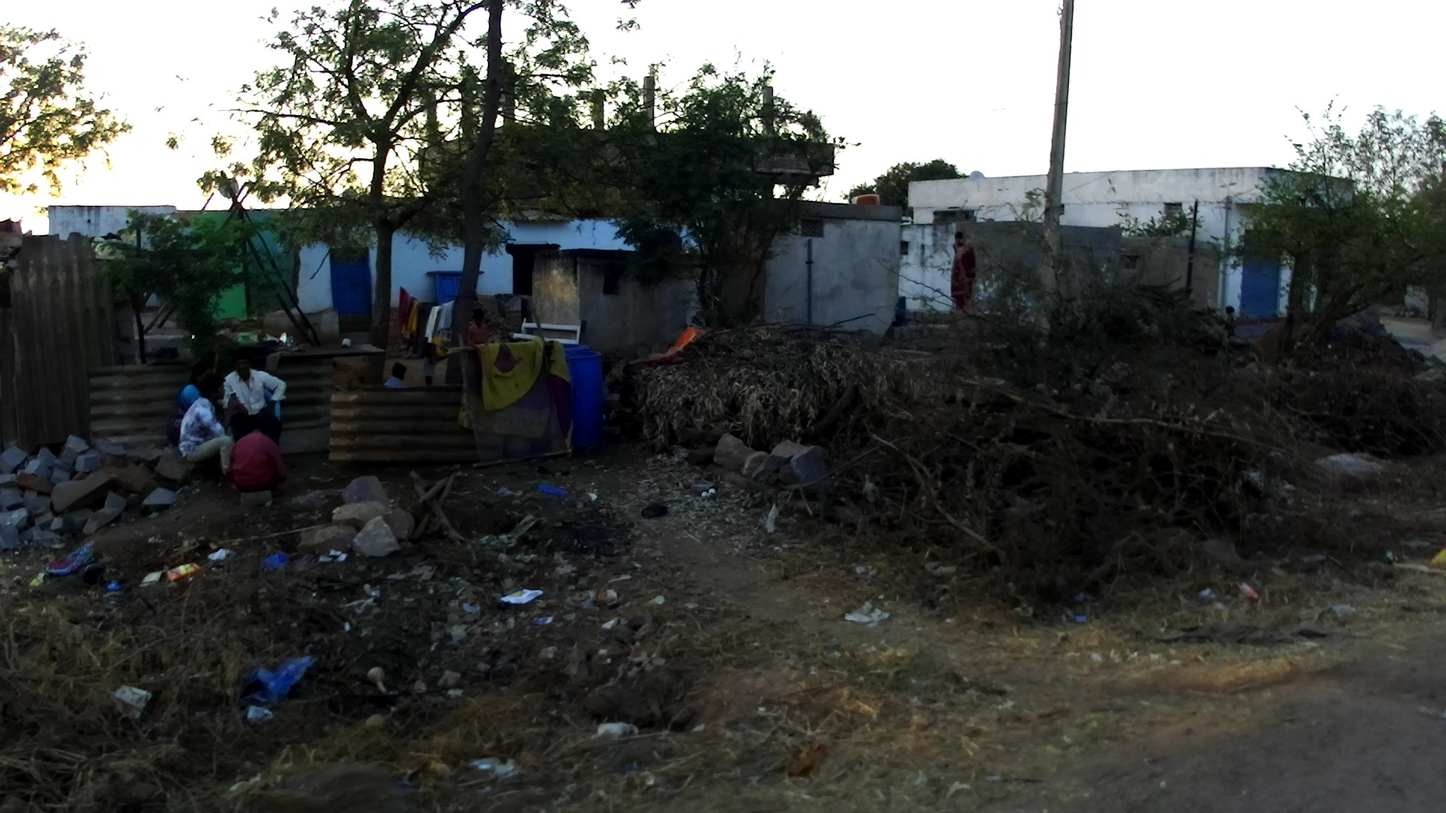person: (219, 349, 286, 443), (178, 373, 239, 474), (226, 410, 287, 501), (166, 365, 226, 446), (468, 308, 490, 345), (383, 362, 407, 389)
